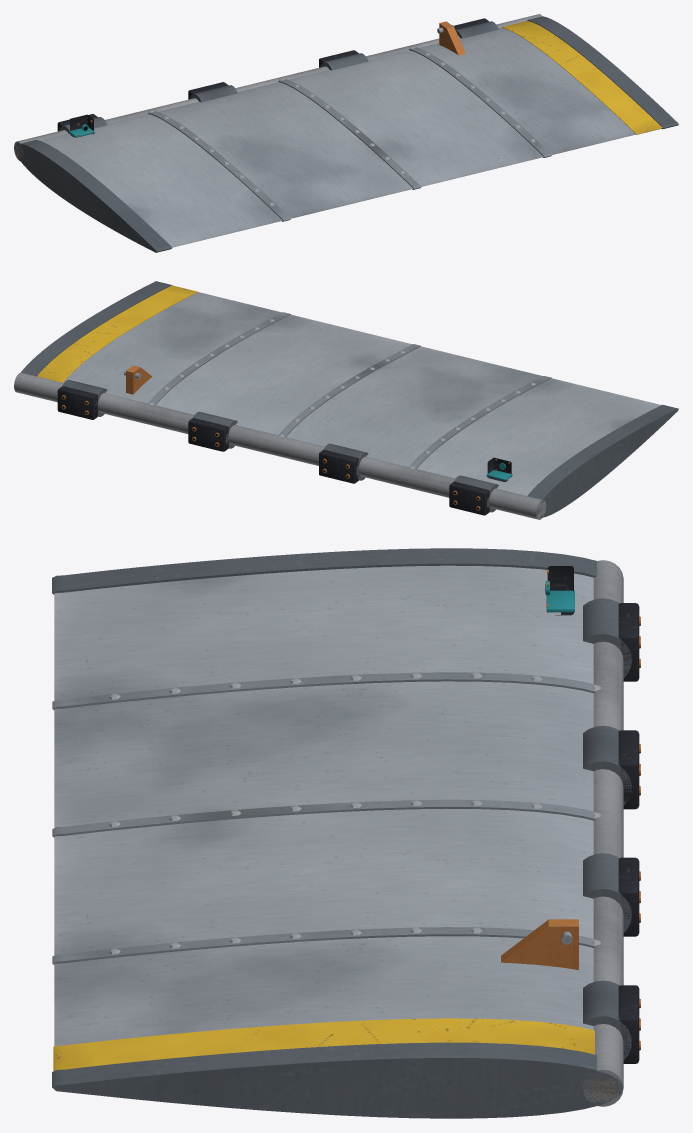
File: control_surface.glb
3 views of the same model, one above another, from view 1: azimuth 30°, elevation 25°; view 2: azimuth 150°, elevation 25°; view 3: azimuth 270°, elevation 25° (orthographic). The views are drawn at different scales.
Parts seen in each view (by area): view 1: Flap; view 2: Flap; view 3: Flap.
Part boxes in pixels (box(x1,y1,x2,y2)): Flap: box(14, 14, 678, 252); Flap: box(14, 281, 678, 519); Flap: box(52, 548, 640, 1118).
Size of the model in its own units: 1 by 0.0877 by 0.4884.
Materials: 10 (7 with a texture image).
